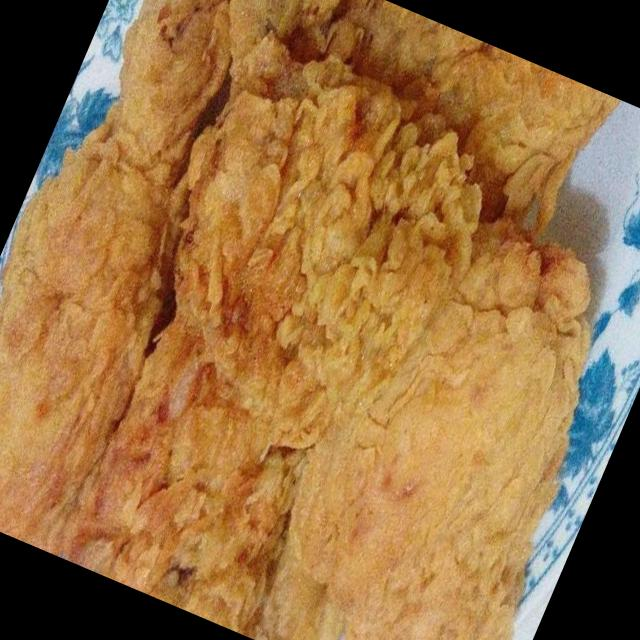Fried Chicken: (0, 0, 623, 640)
